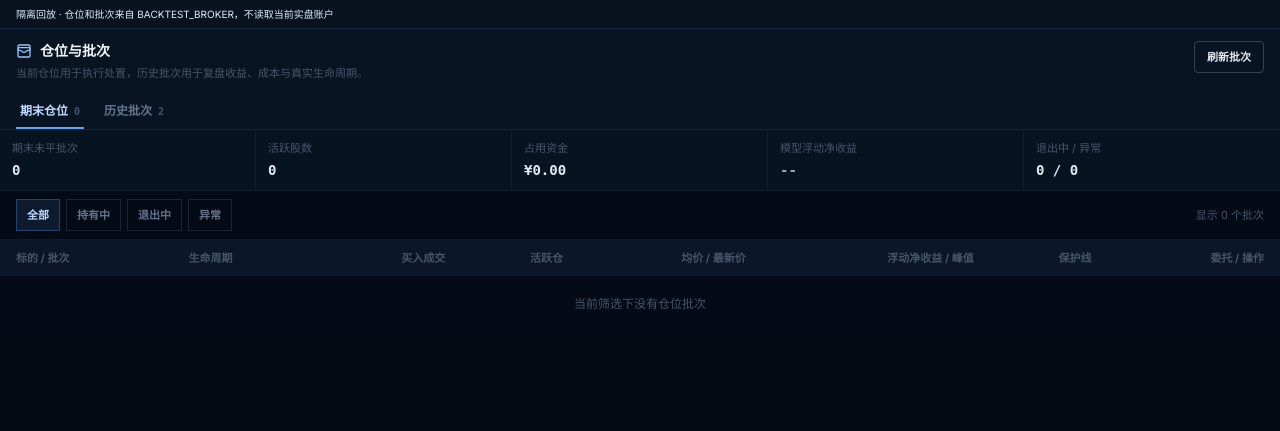
Test: TTradePositionsView › recomputes history KPIs from the rows selected by the date filter
The image size is (1280, 431).
Click the tab "历史批次2".
click(134, 111)  # box [100,93,168,129]
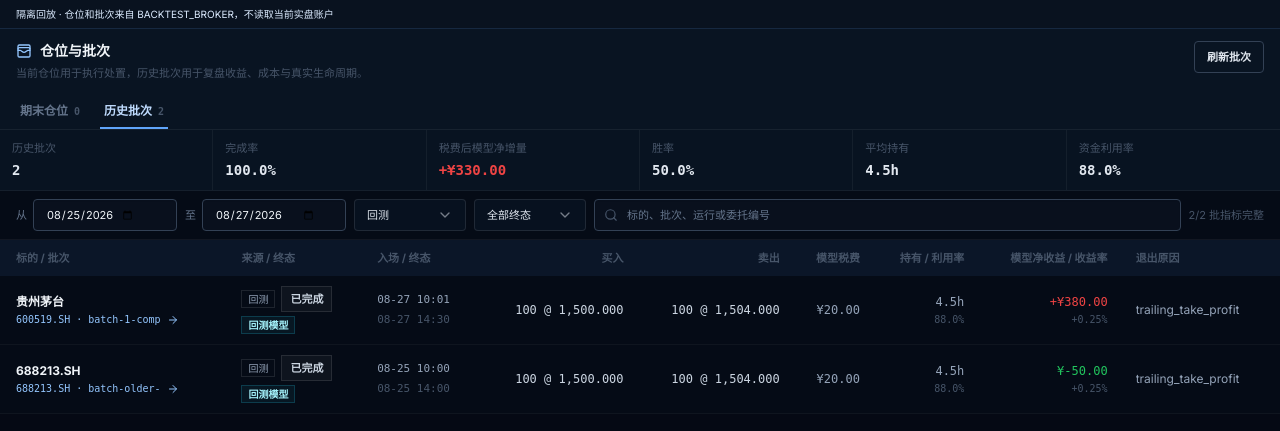
expect the text "+¥330.00" is shown: met, box [439,162,506,178]
Type "2026-08-27" into the date field named "历史开始日期".
click(105, 215); type("2026-08-27")  # box [33,199,177,231]
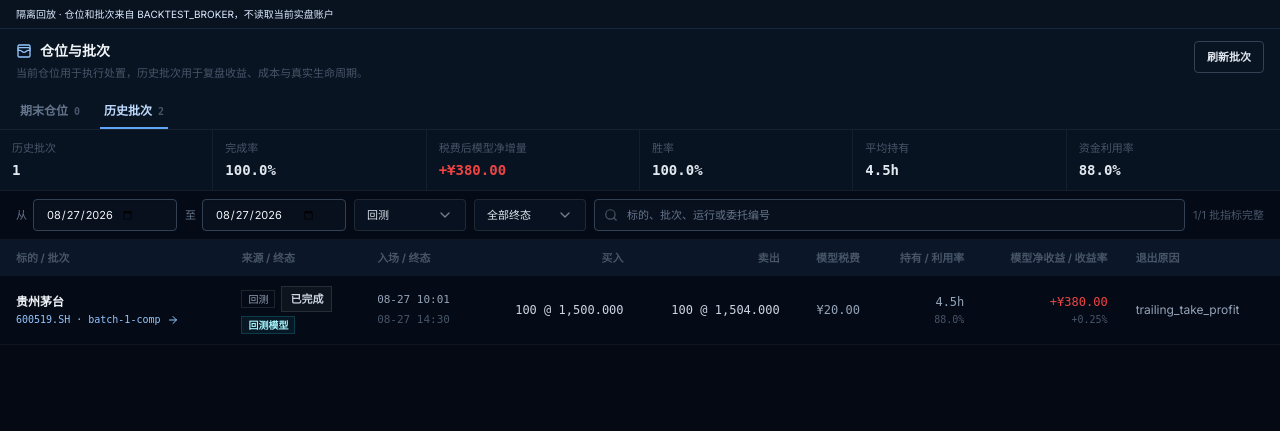
expect the text "+¥380.00" is shown: met, box [439,162,506,178]
expect the button "688213.SH" is gone: met
